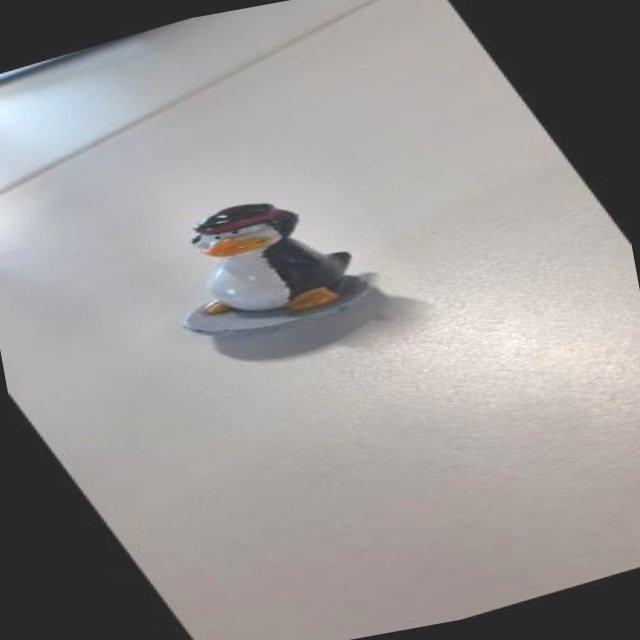Penguin: (108, 158, 419, 379)
